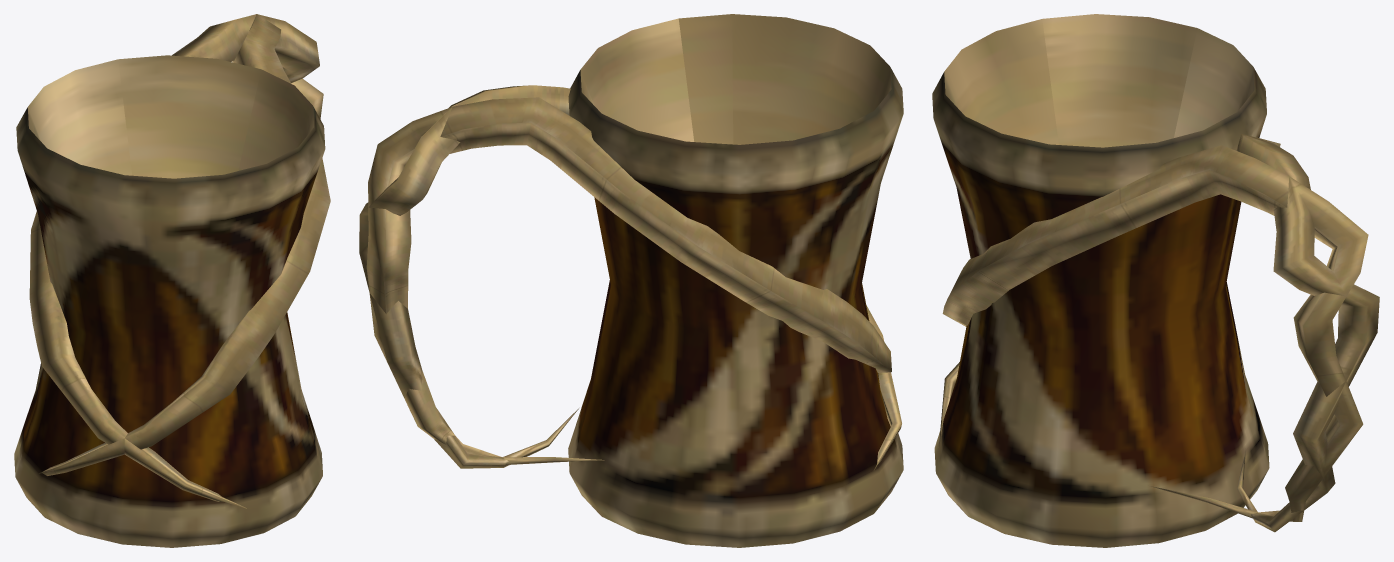
The model's file is CH07_CINE04_GALION_SHOT2_MUG.fbx.
3 renders of one model, left to right at view 1: azimuth 30°, elevation 25°; view 2: azimuth 150°, elevation 25°; view 3: azimuth 270°, elevation 25°, orthographic. The views are drawn at different scales.
Parts seen in each view (by area): view 1: CH07_CINE04_GALION_SHOT2_MUG; view 2: CH07_CINE04_GALION_SHOT2_MUG; view 3: CH07_CINE04_GALION_SHOT2_MUG.
Part boxes in pixels (x1,y1,x2,y2): CH07_CINE04_GALION_SHOT2_MUG: [14, 14, 330, 547]; CH07_CINE04_GALION_SHOT2_MUG: [359, 14, 903, 547]; CH07_CINE04_GALION_SHOT2_MUG: [932, 14, 1379, 547].
Bounding box in the file's own units: 2061 × 1929 × 1924.
1 material, 1 textured.
